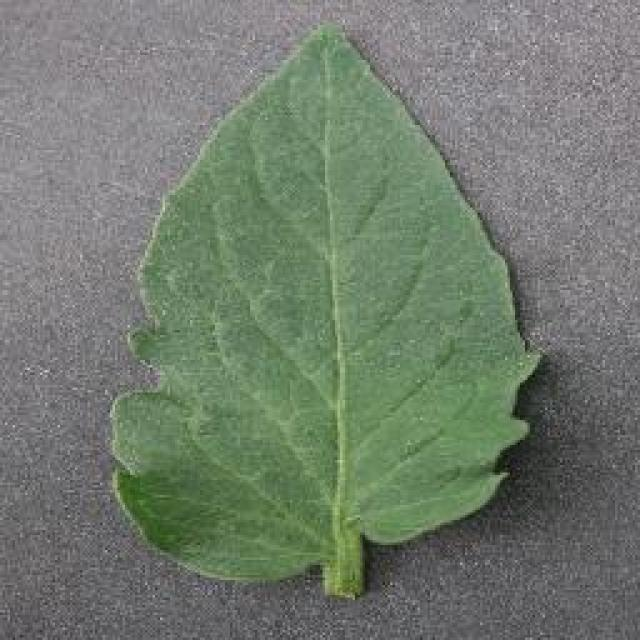Tomato healthy leaf: (110, 28, 545, 592)
